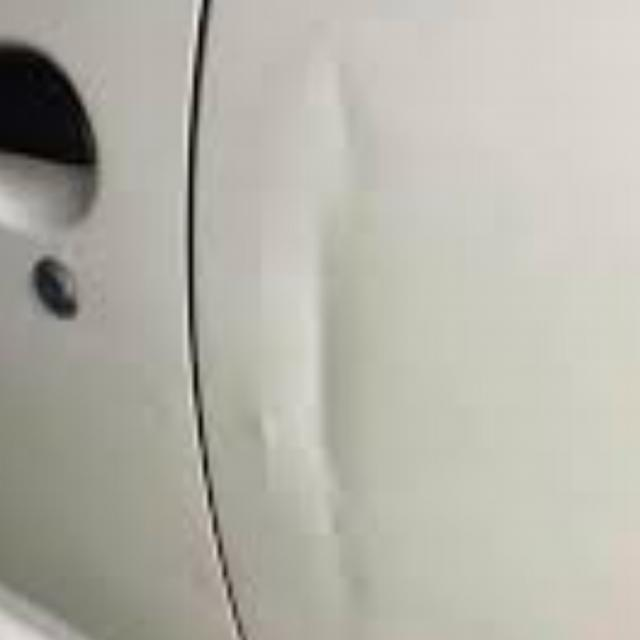dents: (298, 222, 396, 619), (314, 56, 378, 202), (243, 400, 291, 512)
